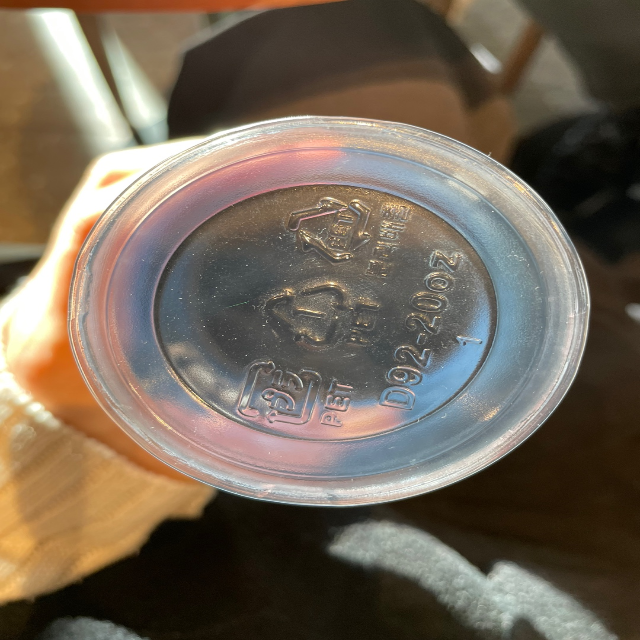pet: (279, 185, 412, 282), (226, 346, 357, 434), (252, 280, 379, 354)
